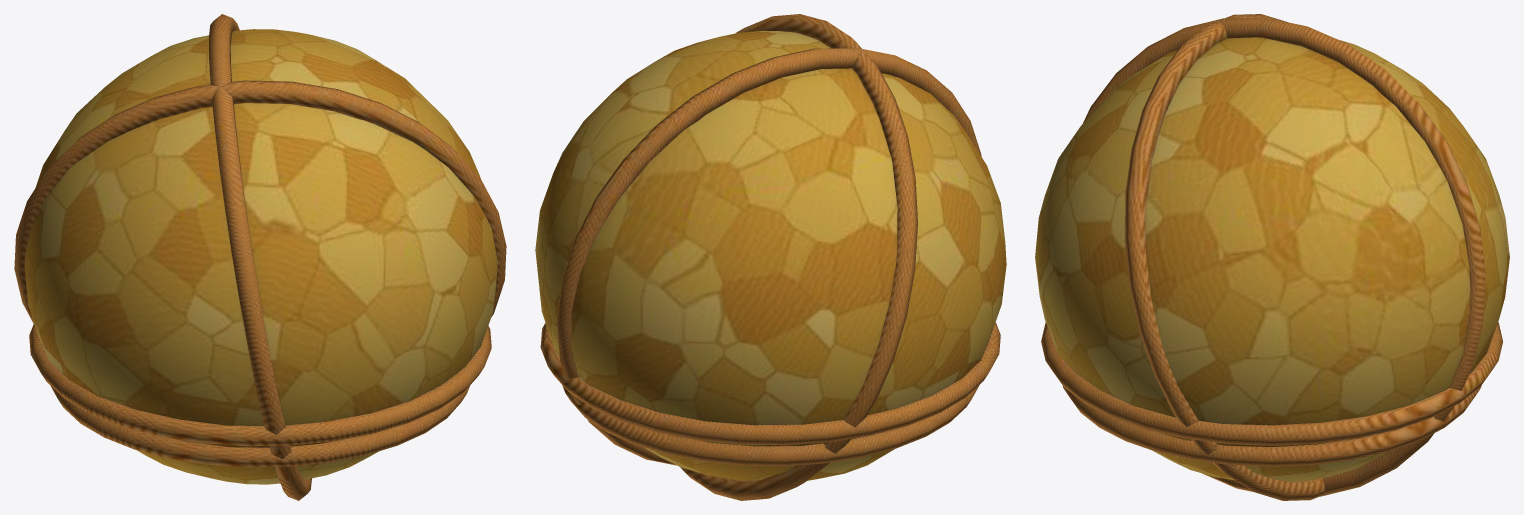
Rendered from hay_bale_4_high.glb.
The picture shows the model from 3 angles, left to right: view 1: azimuth 30°, elevation 25°; view 2: azimuth 150°, elevation 25°; view 3: azimuth 270°, elevation 25°; orthographic projection.
Visible parts, largest first — view 1: hay_bale_4; view 2: hay_bale_4; view 3: hay_bale_4.
Part boxes in pixels (box(x1,y1,x2,y2)): hay_bale_4: box(14, 14, 506, 500); hay_bale_4: box(535, 14, 1006, 500); hay_bale_4: box(1035, 14, 1509, 500).
Size of the model in its own units: 0.6122 by 0.6235 by 0.6129.
1 material, 1 textured.
